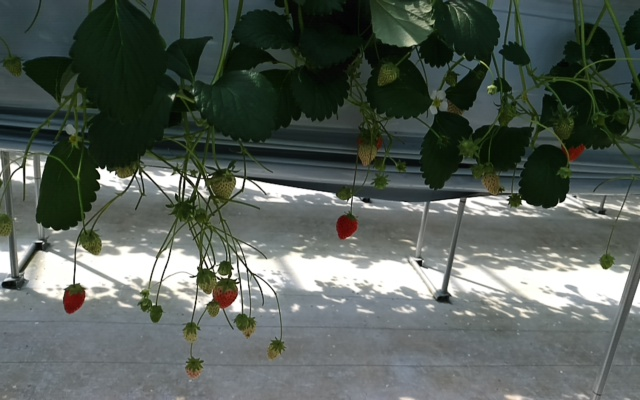GreenStrawberry: (209, 167, 238, 206), (552, 108, 574, 141), (79, 228, 103, 257), (376, 61, 400, 89), (481, 169, 503, 197), (357, 140, 379, 168), (2, 52, 23, 78), (196, 269, 216, 295), (265, 337, 284, 362), (237, 315, 255, 340), (185, 359, 203, 381), (183, 320, 198, 345), (1, 212, 14, 240), (148, 303, 163, 324), (598, 254, 615, 270), (217, 261, 231, 275)
MatureStrawberry: (62, 282, 86, 315), (215, 278, 237, 309), (335, 212, 358, 240)
